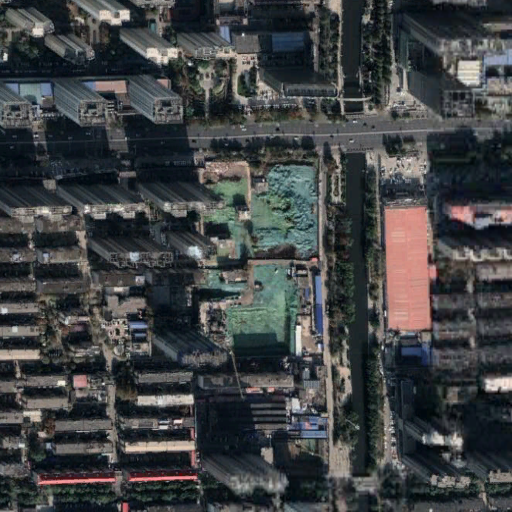cw: (198, 162, 321, 357)
